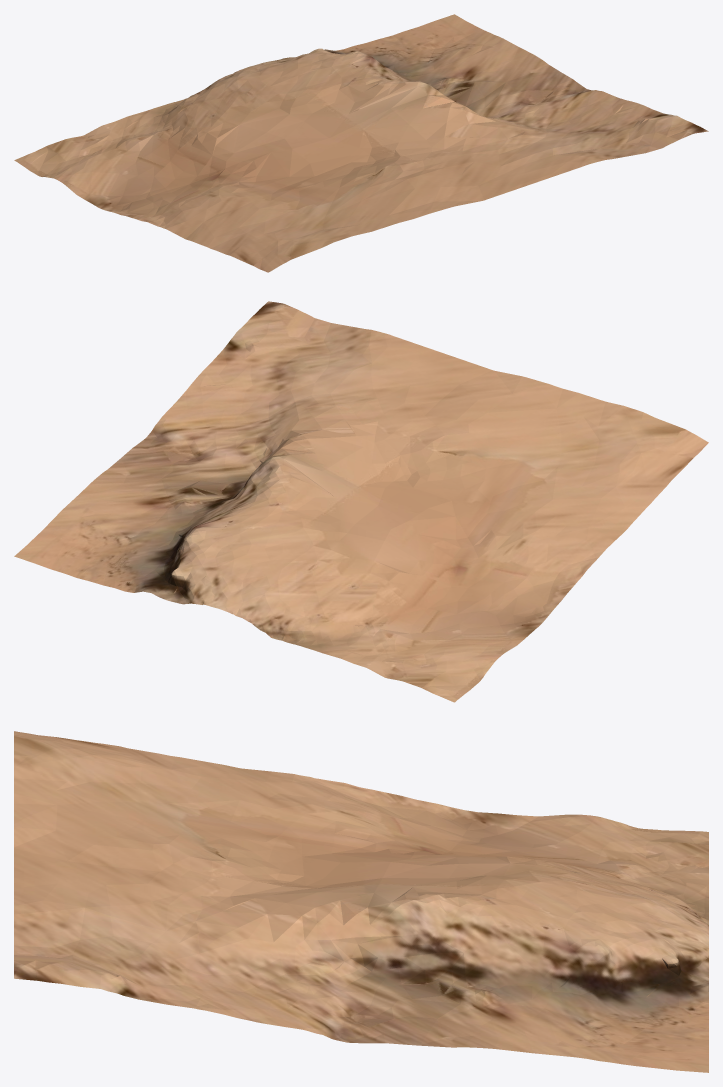
3 renders of one model, top to bottom at view 1: azimuth 30°, elevation 25°; view 2: azimuth 150°, elevation 25°; view 3: azimuth 270°, elevation 25°, orthographic. The views are drawn at different scales.
Bounding box in the file's own units: 2.09 × 0.494 × 2.09.
Materials: 2 (2 with a texture image).
